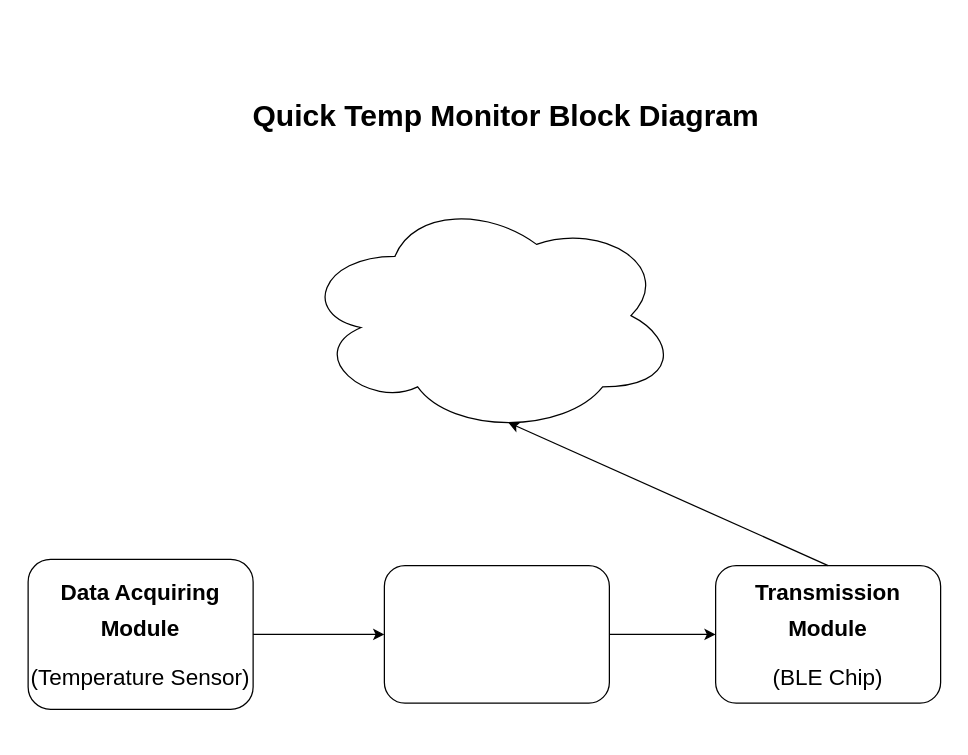
The diagram is 968 pixels wide and 755 high, and some of its shapes have lost their labels. Here are the shapes that lost their labels. From the top down, the box of each, then its label:
(299, 196, 678, 434): Data Analysis Module (Commercial smart device and database)
(383, 564, 609, 703): Processing Module (Micro-controller Unit)
